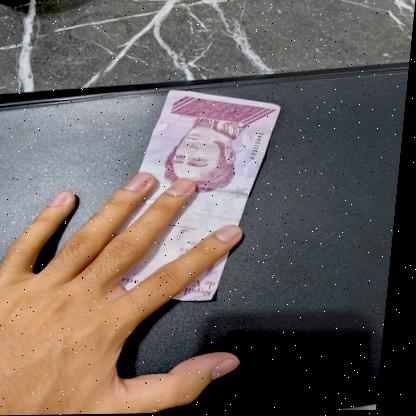one_hundred-front-vef: (107, 88, 284, 303)
